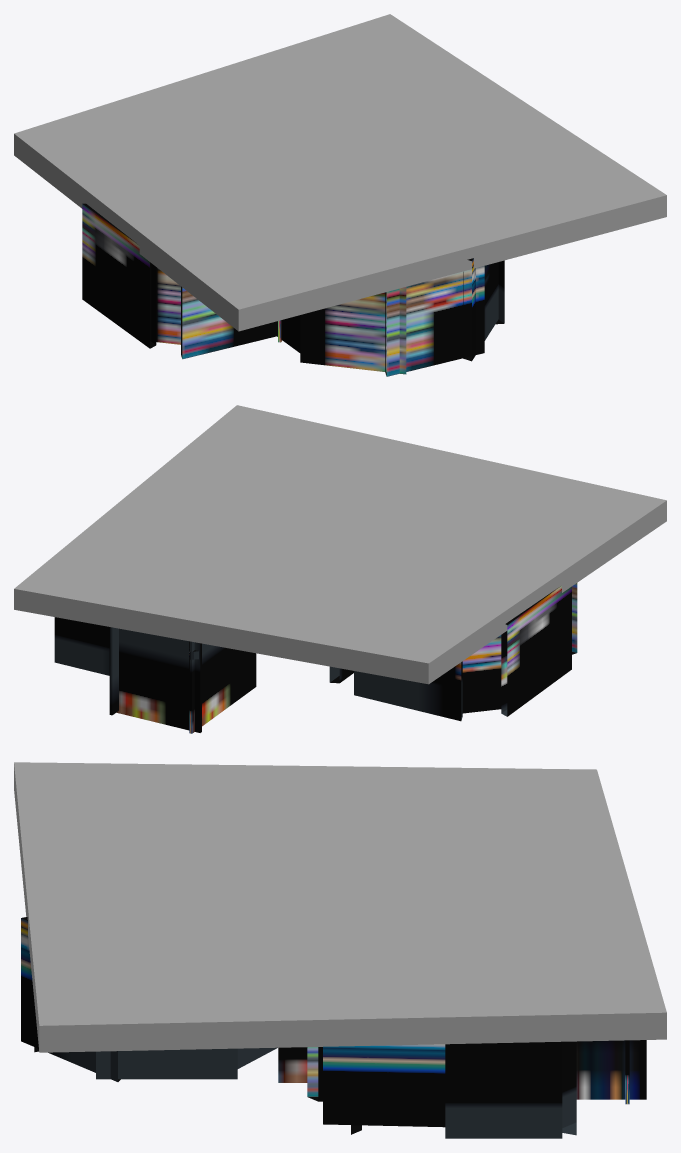
The model's file is Stage7Collider (1).fbx.
The picture shows the model from 3 angles, top to bottom: view 1: azimuth 30°, elevation 25°; view 2: azimuth 150°, elevation 25°; view 3: azimuth 270°, elevation 25°; orthographic projection. The views are drawn at different scales.
Parts seen in each view (by area): view 1: Plane, Plane.025, Plane.032, Plane.024, Plane.005, Plane.033, Plane.026, Plane.023; view 2: Plane, Plane.009, Plane.032, Plane.002, Plane.030, Plane.076, Plane.031, Plane.016; view 3: Plane, Plane.074, Plane.072, Plane.027, Plane.016, Plane.026, Plane.075, Plane.037, Plane.070.
Boxes of the visible parts, x1,y1,x2,y2 form: Plane: [14, 14, 666, 331]; Plane.025: [385, 266, 484, 376]; Plane.032: [82, 203, 156, 348]; Plane.024: [300, 287, 406, 374]; Plane.005: [181, 286, 277, 359]; Plane.033: [150, 262, 180, 344]; Plane.026: [463, 258, 498, 361]; Plane.023: [277, 315, 300, 352]; Plane: [14, 405, 666, 684]; Plane.009: [116, 628, 201, 732]; Plane.032: [501, 585, 571, 716]; Plane.002: [189, 641, 256, 733]; Plane.030: [354, 661, 462, 721]; Plane.076: [54, 617, 109, 675]; Plane.031: [462, 615, 520, 713]; Plane.016: [109, 627, 118, 715]; Plane: [14, 762, 666, 1052]; Plane.074: [445, 1041, 562, 1138]; Plane.072: [323, 1044, 445, 1127]; Plane.027: [96, 1048, 237, 1079]; Plane.016: [576, 1040, 646, 1099]; Plane.026: [21, 917, 120, 1081]; Plane.075: [562, 1041, 576, 1127]; Plane.037: [278, 1047, 307, 1082]; Plane.070: [307, 1047, 322, 1101].
Bounding box in the file's own units: 44356 × 11412 × 46435.
